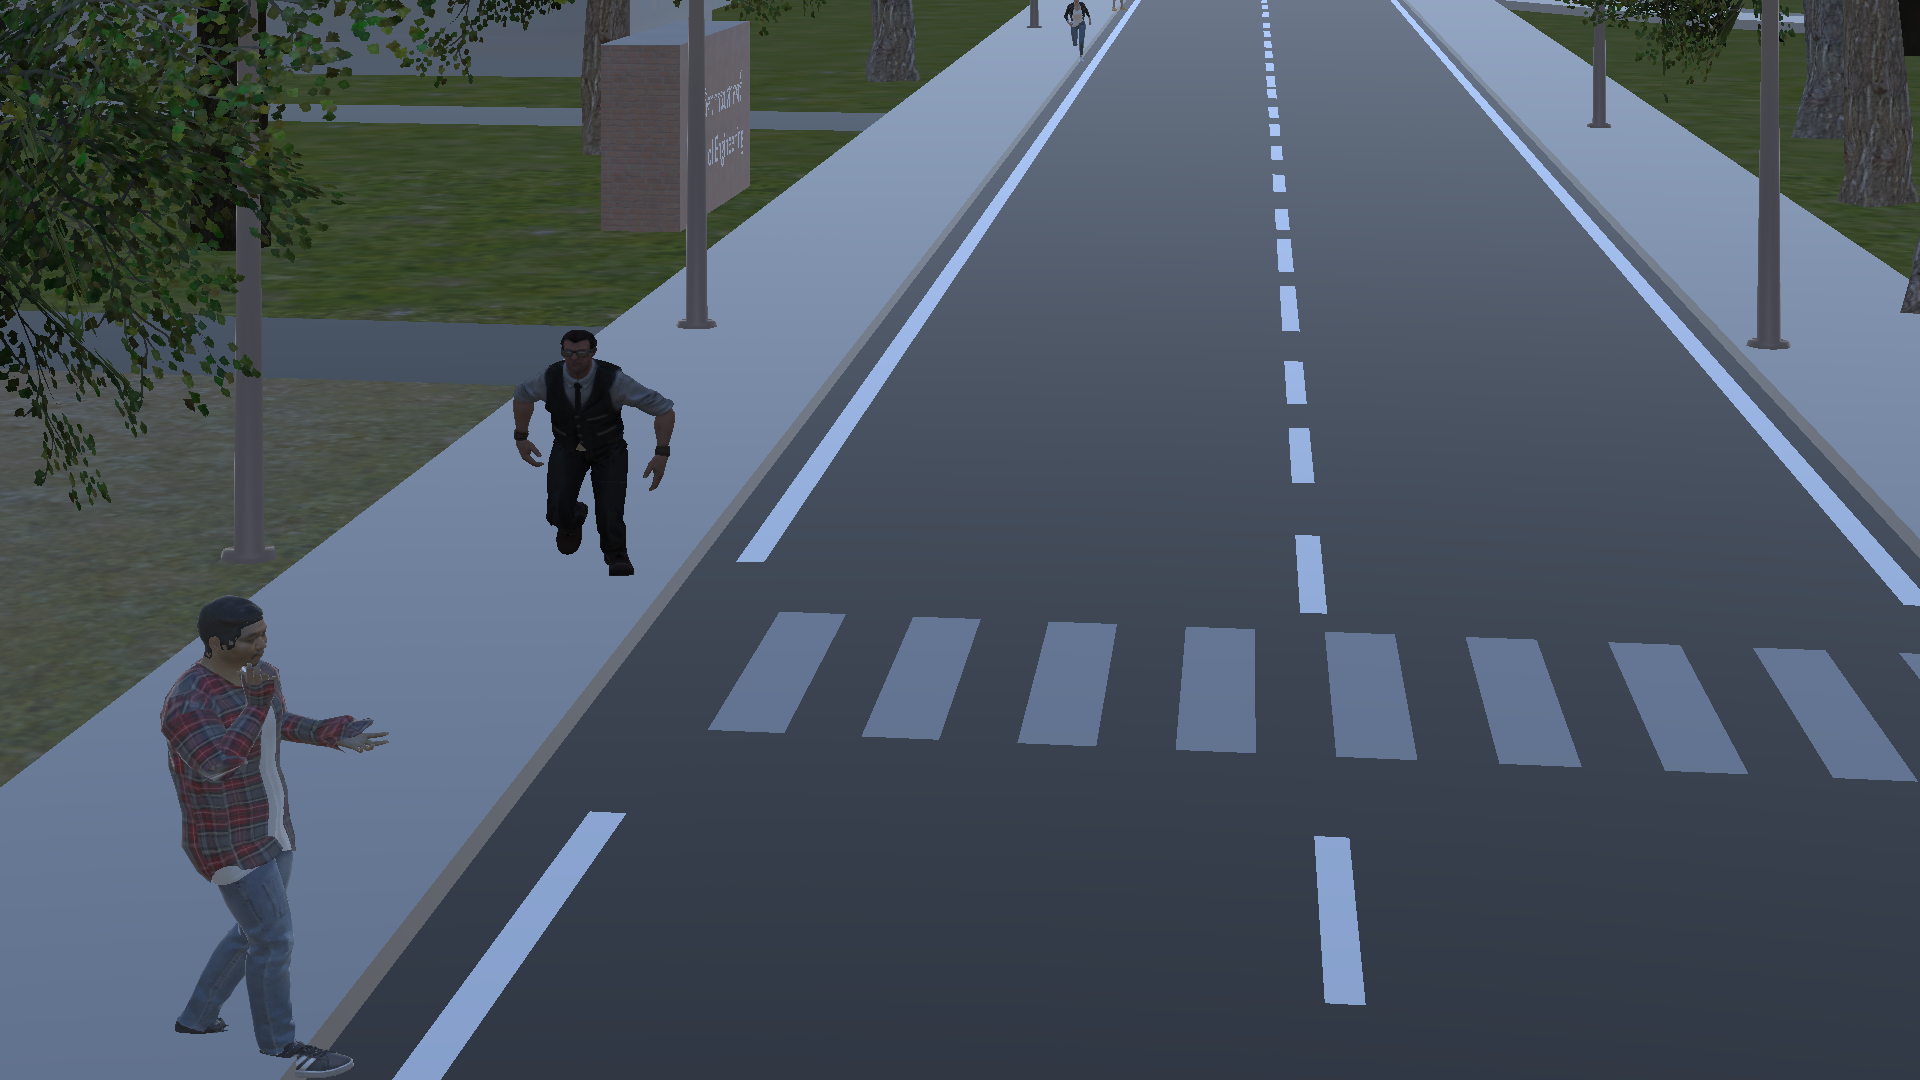pedestrian: (159, 584, 393, 1078), (501, 318, 678, 592), (1062, 5, 1103, 73)
